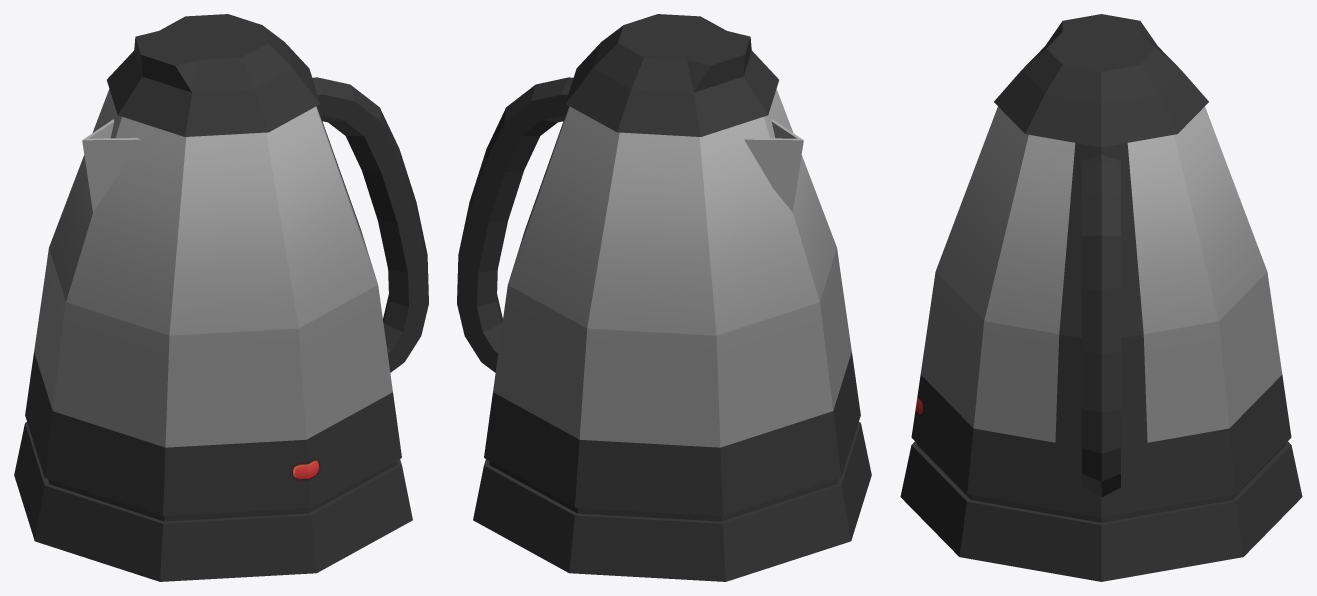
File: Electric_kettle.fbx
3 views of the same model, side by side, from view 1: azimuth 30°, elevation 25°; view 2: azimuth 150°, elevation 25°; view 3: azimuth 270°, elevation 25° (orthographic). The views are drawn at different scales.
Visible parts, largest first — view 1: Electric_kettle; view 2: Electric_kettle; view 3: Electric_kettle.
Part boxes in pixels (x1,y1,x2,y2): Electric_kettle: (14, 14, 428, 581); Electric_kettle: (457, 14, 871, 581); Electric_kettle: (900, 14, 1302, 581).
Bounding box in the file's own units: 0.4406 × 0.4922 × 0.3999.
Materials: 1 (1 with a texture image).
